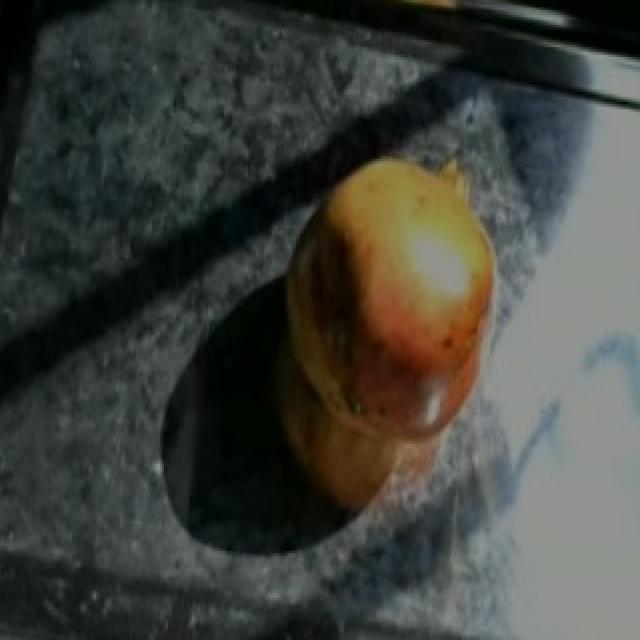fruit: (254, 146, 526, 476)
